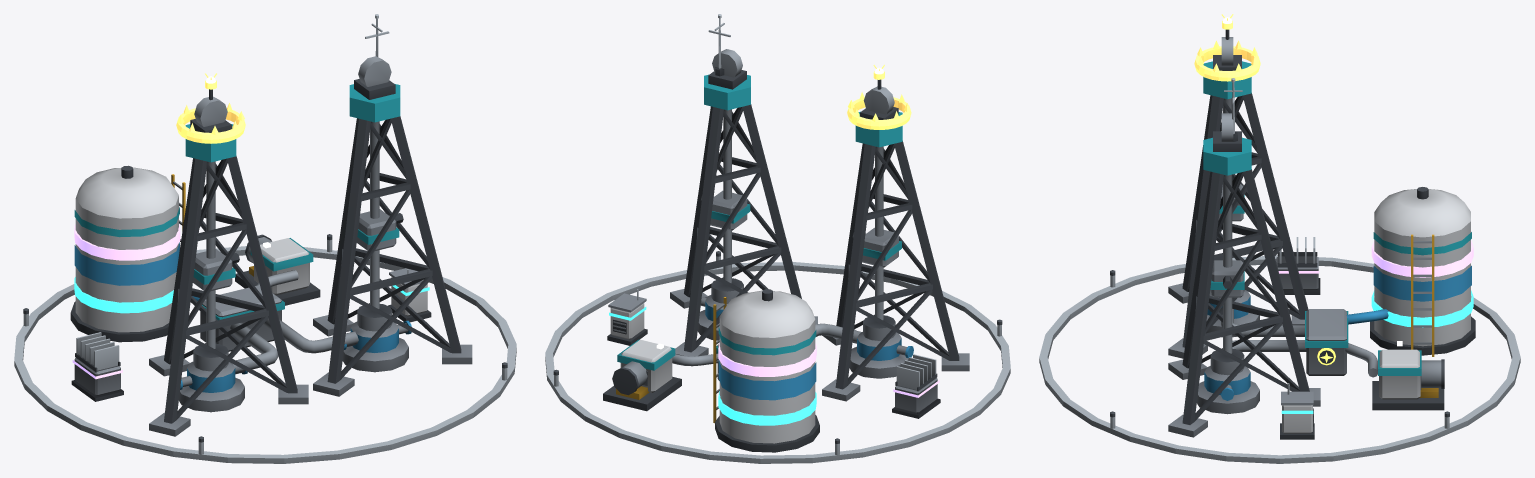
The model's file is water_extractor_xl.glb.
3 renders of one model, left to right at view 1: azimuth 30°, elevation 25°; view 2: azimuth 150°, elevation 25°; view 3: azimuth 270°, elevation 25°, orthographic. The views are drawn at different scales.
Parts seen in each view (by area): view 1: Base, L2, L4, L3, L5; view 2: Base, L2, L4, L3, L5; view 3: Base, L2, L3, L4, L5.
Part boxes in pixels (<box>): Base: <box>70,56,472,436</box>; L2: <box>14,14,516,463</box>; L4: <box>71,223,180,401</box>; L3: <box>74,268,431,322</box>; L5: <box>176,73,245,143</box>; Base: <box>603,49,969,452</box>; L2: <box>545,14,1010,463</box>; L4: <box>718,342,940,418</box>; L3: <box>607,289,816,425</box>; L5: <box>847,64,911,129</box>; Base: <box>1168,37,1475,437</box>; L2: <box>1039,78,1520,463</box>; L3: <box>1280,290,1473,439</box>; L4: <box>1276,237,1473,294</box>; L5: <box>1194,14,1335,365</box>.
Bounding box in the file's own units: 8.26 × 6.16 × 8.26.
